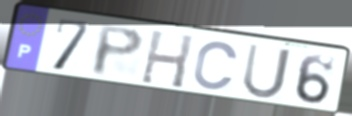6: (294, 53, 336, 106)
7: (52, 17, 92, 73)
C: (191, 40, 241, 92)
H: (138, 28, 196, 91)
P: (90, 23, 146, 79)
U: (240, 41, 293, 101)
